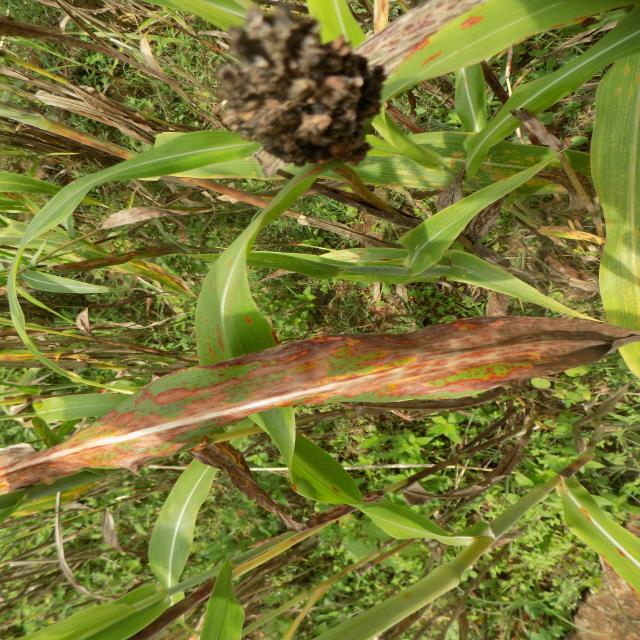millet_healthy: (0, 126, 272, 394), (476, 7, 640, 186), (396, 134, 589, 278), (28, 533, 268, 640), (585, 50, 640, 374), (154, 429, 225, 618), (199, 558, 250, 640)
millet_rust: (187, 135, 598, 550), (375, 0, 618, 105), (167, 438, 391, 538), (306, 244, 630, 312), (316, 0, 478, 96)
